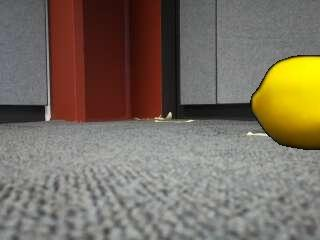lemon: (250, 55, 318, 149)
